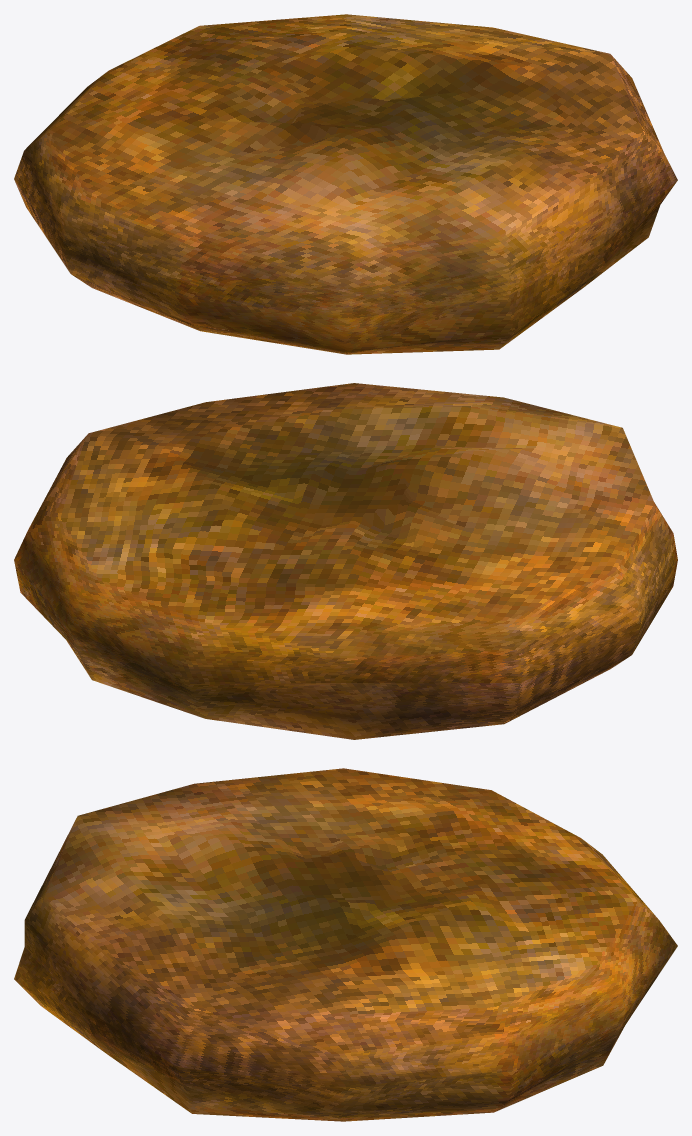
File: patty-chick.glb
3 renders of one model, top to bottom at view 1: azimuth 30°, elevation 25°; view 2: azimuth 150°, elevation 25°; view 3: azimuth 270°, elevation 25°, orthographic.
Visible parts, largest first — view 1: Cylinder.001; view 2: Cylinder.001; view 3: Cylinder.001.
Part boxes in pixels (x1,y1,x2,y2): Cylinder.001: [14, 14, 677, 354]; Cylinder.001: [14, 383, 677, 739]; Cylinder.001: [14, 768, 677, 1121].
Size of what is drawn, in the model's own units: 2.28 by 0.5861 by 2.29.
Materials: 1 (1 with a texture image).
